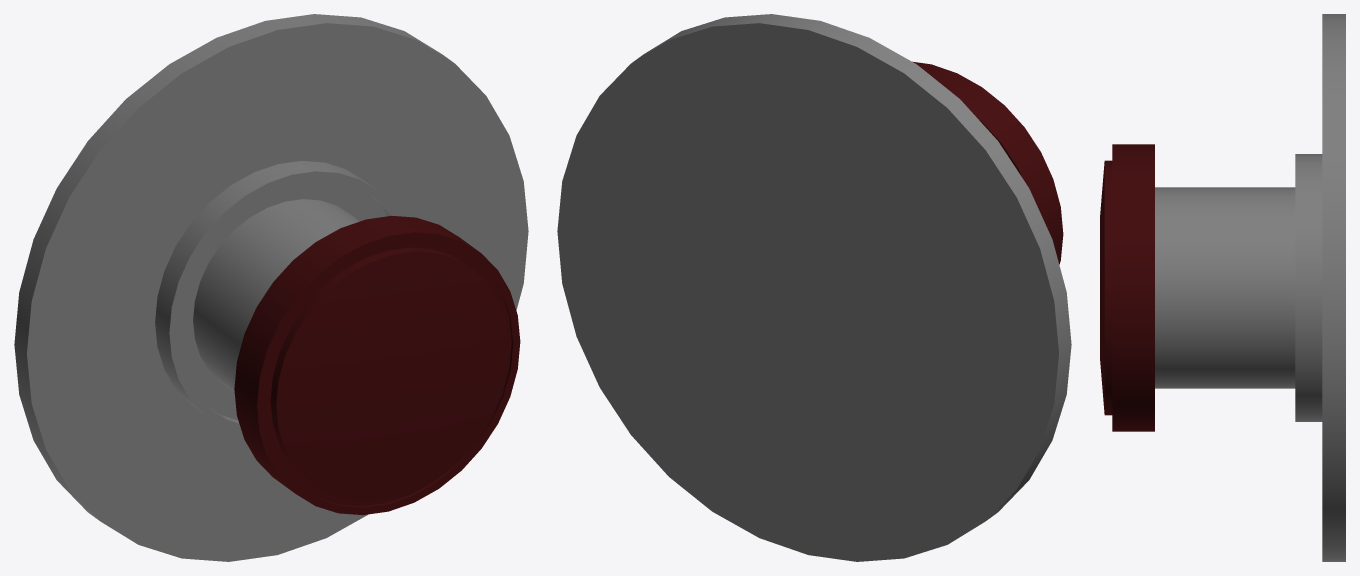
File: NewButton.fbx
3 views of the same model, side by side, from view 1: azimuth 30°, elevation 25°; view 2: azimuth 150°, elevation 25°; view 3: azimuth 270°, elevation 25° (orthographic). The views are drawn at different scales.
Visible parts, largest first — view 1: Stop Button 02 (×3); view 2: Stop Button 02 (×2); view 3: Stop Button 02 (×3).
Boxes of the visible parts, x1,y1,x2,y2 form: Stop Button 02 (×3): (14,14,528,561); Stop Button 02 (×2): (557,14,1071,561); Stop Button 02 (×3): (1100,14,1345,561).
Size of the model in its own units: 200 by 200 by 89.69.
